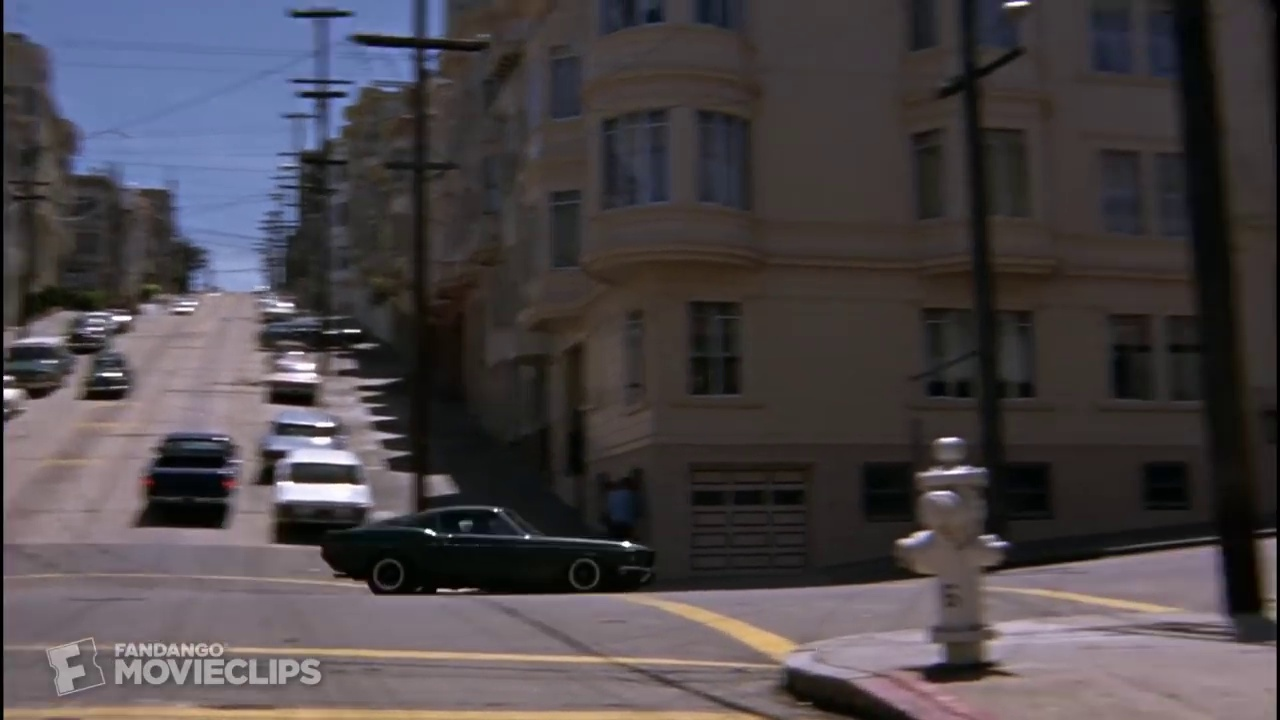car: (317, 502, 660, 605), (263, 443, 375, 541), (254, 404, 353, 489), (254, 344, 330, 404), (248, 316, 371, 352), (78, 350, 142, 405)
fire hydrant: (884, 420, 1027, 688)
truck: (135, 428, 247, 522), (1, 328, 78, 401)
